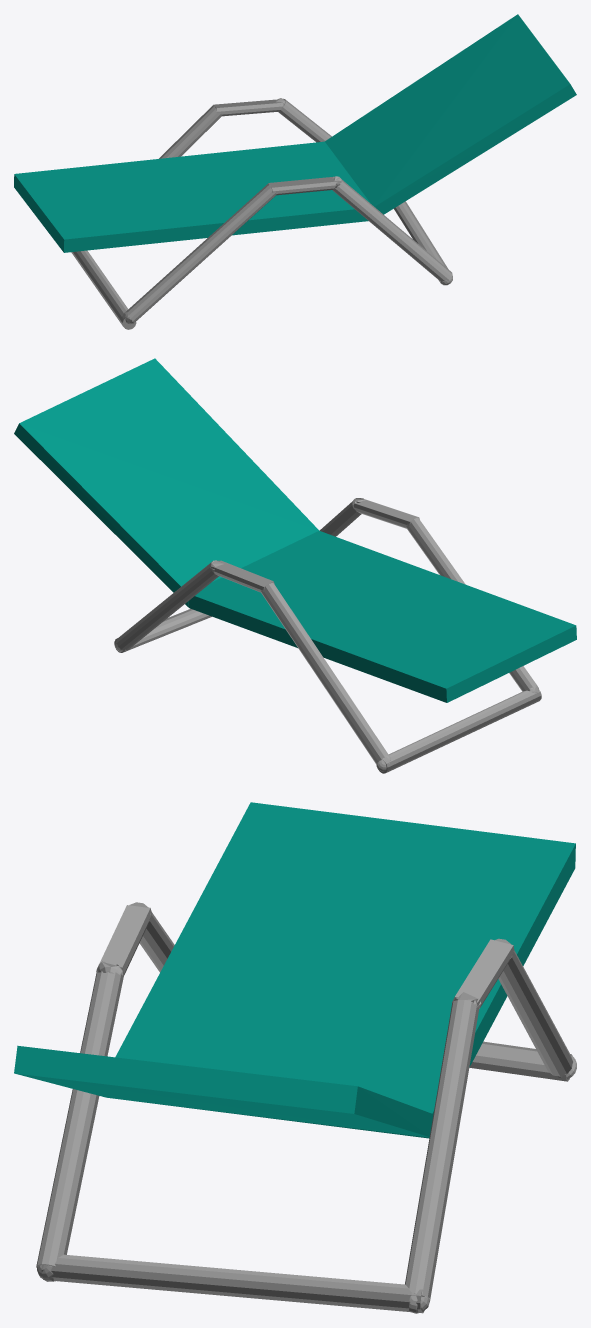
File: Chair1.glb
3 renders of one model, top to bottom at view 1: azimuth 30°, elevation 25°; view 2: azimuth 150°, elevation 25°; view 3: azimuth 270°, elevation 25°, orthographic. The views are drawn at different scales.
Visible parts, largest first — view 1: group876641566, group1077511786, group833733614, group1715630603, group853096989, group1846827902, group606963836, group1200778842, group1499209735, group246137678; view 2: group1077511786, group876641566, group1846827902, group853096989, group246137678, group833733614, group606963836, group1200778842, group1499209735, group1715630603; view 3: group876641566, group1077511786, group606963836, group246137678, group1715630603, group1846827902, group853096989, group1200778842, group1499209735, group833733614.
Boxes of the visible parts, x1,y1,x2,y2 form: group876641566: (14,141,370,252); group1077511786: (325,14,576,214); group833733614: (126,183,276,322); group1715630603: (332,180,452,282); group853096989: (71,250,136,329); group1846827902: (159,105,221,158); group606963836: (394,201,452,285); group1200778842: (268,176,337,195); group1499209735: (213,99,283,116); group246137678: (278,98,331,142); group1077511786: (14,358,318,607); group876641566: (188,530,576,702); group1846827902: (260,582,389,764); group853096989: (377,690,541,773); group246137678: (116,560,218,650); group833733614: (406,517,537,691); group606963836: (114,608,211,652); group1200778842: (353,499,419,528); group1499209735: (211,560,274,592); group1715630603: (319,501,361,536); group876641566: (115,802,575,1138); group1077511786: (14,1045,432,1137); group606963836: (41,1254,424,1313); group246137678: (405,1000,479,1299); group1715630603: (36,970,123,1267); group1846827902: (495,938,572,1076); group853096989: (469,1041,572,1081); group1200778842: (98,905,152,976); group1499209735: (452,939,514,1008); group833733614: (129,902,174,972).
Size of the model in its own units: 0.7766 by 0.2878 by 0.4029.
